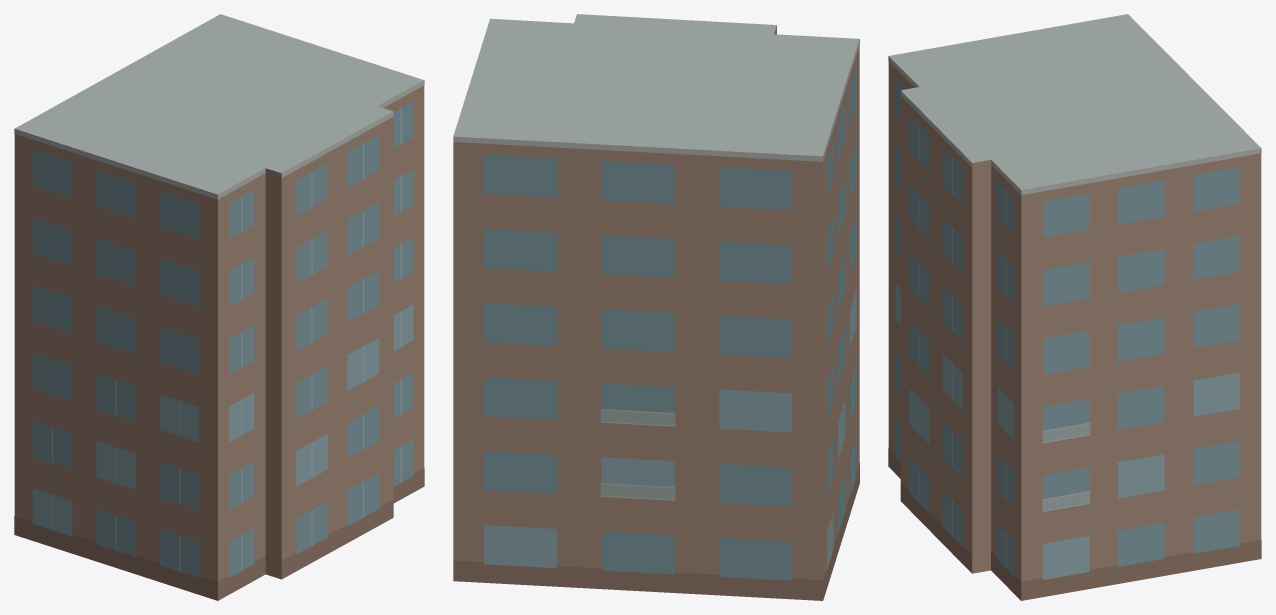
File: survey-upis-32905212.glb
The picture shows the model from 3 angles, left to right: view 1: azimuth 30°, elevation 25°; view 2: azimuth 150°, elevation 25°; view 3: azimuth 270°, elevation 25°; orthographic projection. The views are drawn at different scales.
Visible parts, largest first — view 1: survey-upis-32905212.tmp; view 2: survey-upis-32905212.tmp; view 3: survey-upis-32905212.tmp.
Part boxes in pixels (<box>): survey-upis-32905212.tmp: <box>14,14,424,600</box>; survey-upis-32905212.tmp: <box>453,14,859,600</box>; survey-upis-32905212.tmp: <box>888,14,1261,600</box>.
Size of the model in its own units: 18.41 by 20 by 16.47.
